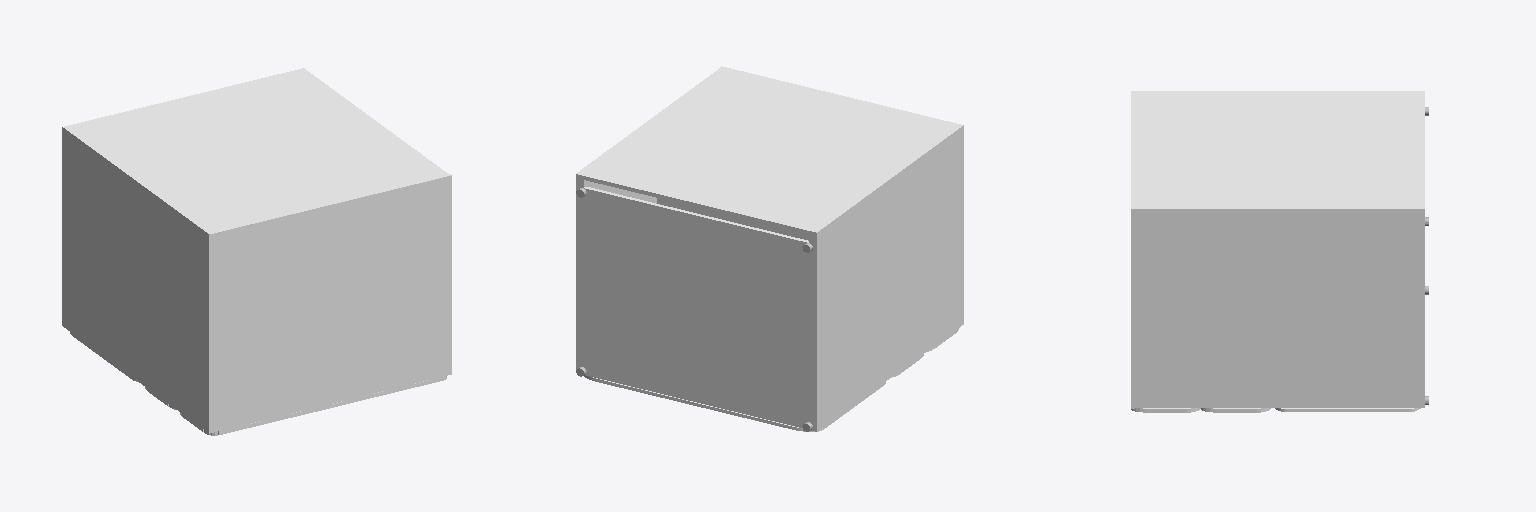
File: StuvaFritidsChest_White.obj
3 renders of one model, left to right at view 1: azimuth 30°, elevation 25°; view 2: azimuth 150°, elevation 25°; view 3: azimuth 270°, elevation 25°, orthographic.
Parts seen in each view (by area): view 1: obj_0; view 2: obj_0; view 3: obj_0.
Part boxes in pixels (x1,y1,x2,y2): obj_0: (62, 68, 451, 435); obj_0: (576, 66, 963, 431); obj_0: (1131, 91, 1428, 412).
Size of the model in its own units: 60 by 50 by 64.